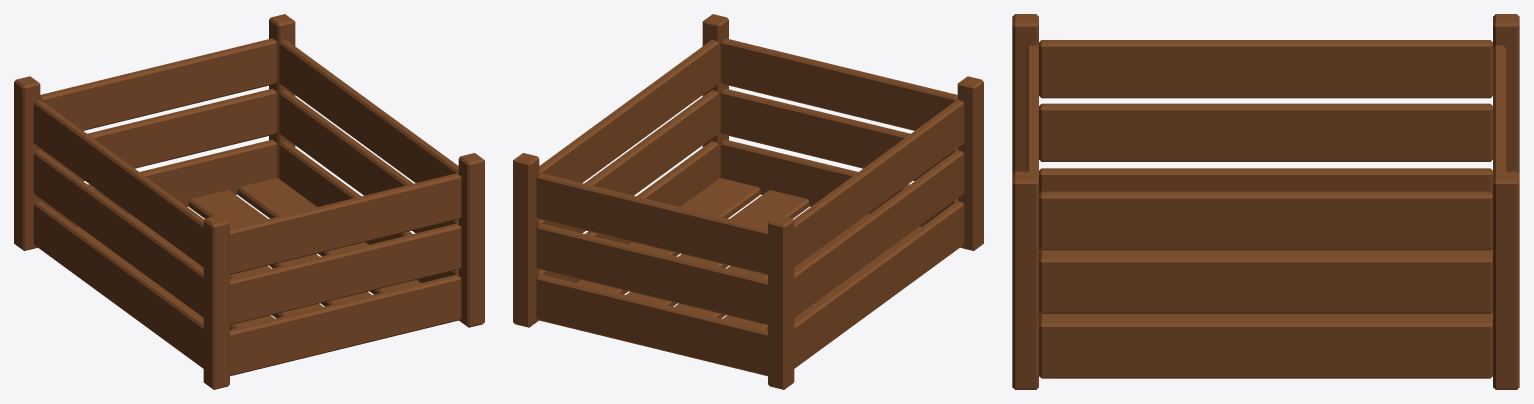
Rendered from ww_crate.glb.
The picture shows the model from 3 angles, left to right: view 1: azimuth 30°, elevation 25°; view 2: azimuth 150°, elevation 25°; view 3: azimuth 270°, elevation 25°; orthographic projection. The views are drawn at different scales.
Visible parts, largest first — view 1: Crate; view 2: Crate; view 3: Crate.
Part boxes in pixels (x1,y1,x2,y2): Crate: (14, 14, 484, 389); Crate: (513, 14, 983, 389); Crate: (1012, 14, 1519, 389).
Bounding box in the file's own units: 0.6537 × 0.3786 × 0.8302.
